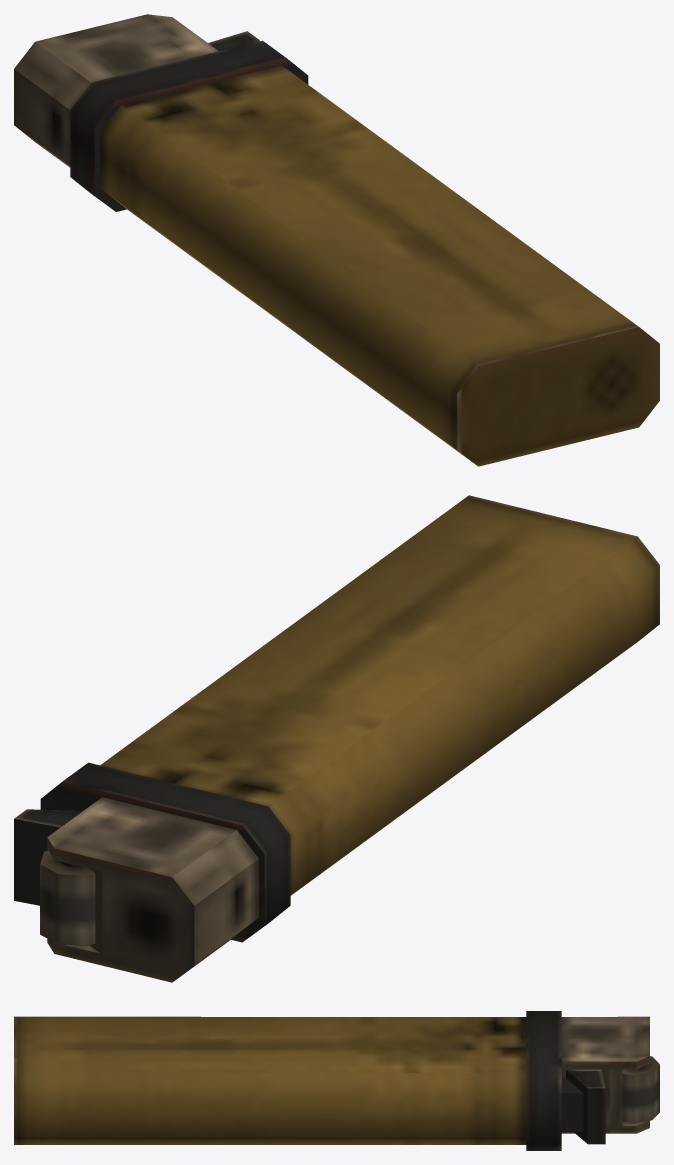
Rendered from lighter_mp_1_2.obj.
3 renders of one model, top to bottom at view 1: azimuth 30°, elevation 25°; view 2: azimuth 150°, elevation 25°; view 3: azimuth 270°, elevation 25°, orthographic. The views are drawn at different scales.
Visible parts, largest first — view 1: lighter_mp_1_2; view 2: lighter_mp_1_2; view 3: lighter_mp_1_2.
Boxes of the visible parts, x1,y1,x2,y2 form: lighter_mp_1_2: (14, 14, 659, 466); lighter_mp_1_2: (14, 495, 659, 982); lighter_mp_1_2: (14, 1011, 659, 1150).
Bounding box in the file's own units: 0.04 × 0.02 × 0.1463.
